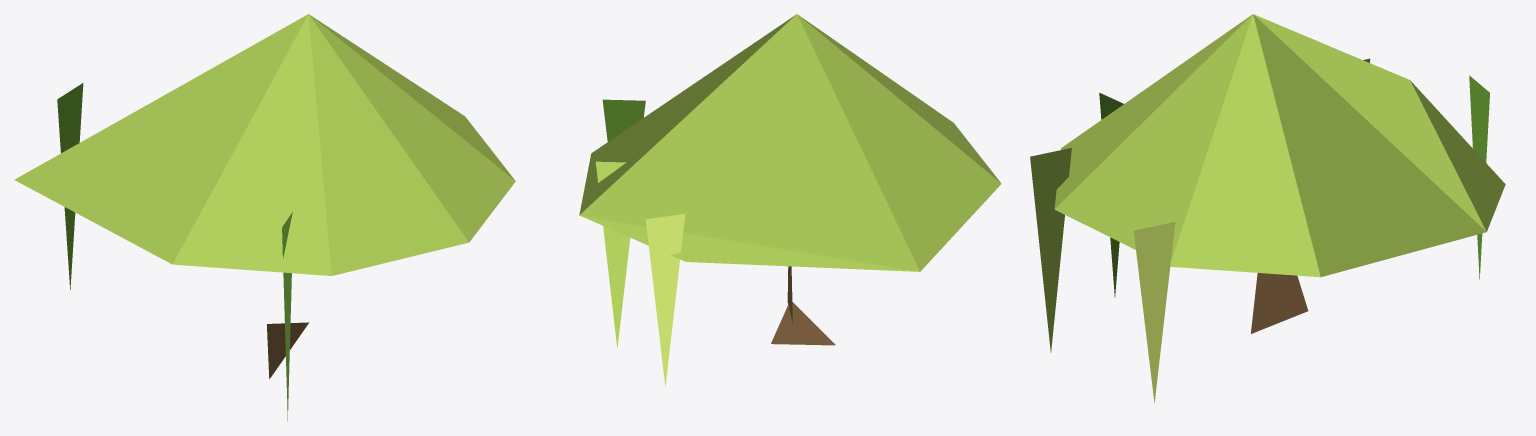
Rendered from tree_willow_1_lod2.glb.
The picture shows the model from 3 angles, left to right: view 1: azimuth 30°, elevation 25°; view 2: azimuth 150°, elevation 25°; view 3: azimuth 270°, elevation 25°; orthographic projection. The views are drawn at different scales.
Visible parts, largest first — view 1: tree_willow_1_lod2; view 2: tree_willow_1_lod2; view 3: tree_willow_1_lod2.
Boxes of the visible parts, <box> form: tree_willow_1_lod2: <box>14,14,515,420</box>; tree_willow_1_lod2: <box>579,14,1001,387</box>; tree_willow_1_lod2: <box>1030,14,1505,403</box>.
Size of the model in its own units: 6.16 by 5.05 by 6.46.
